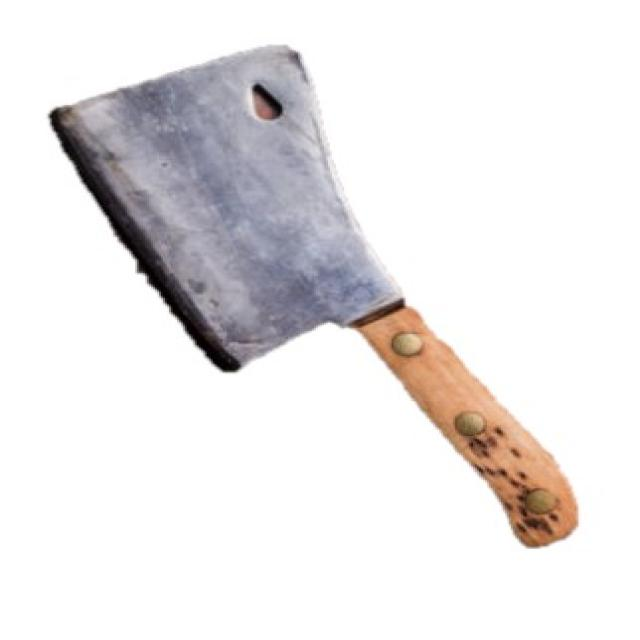knife: (47, 48, 588, 553)
